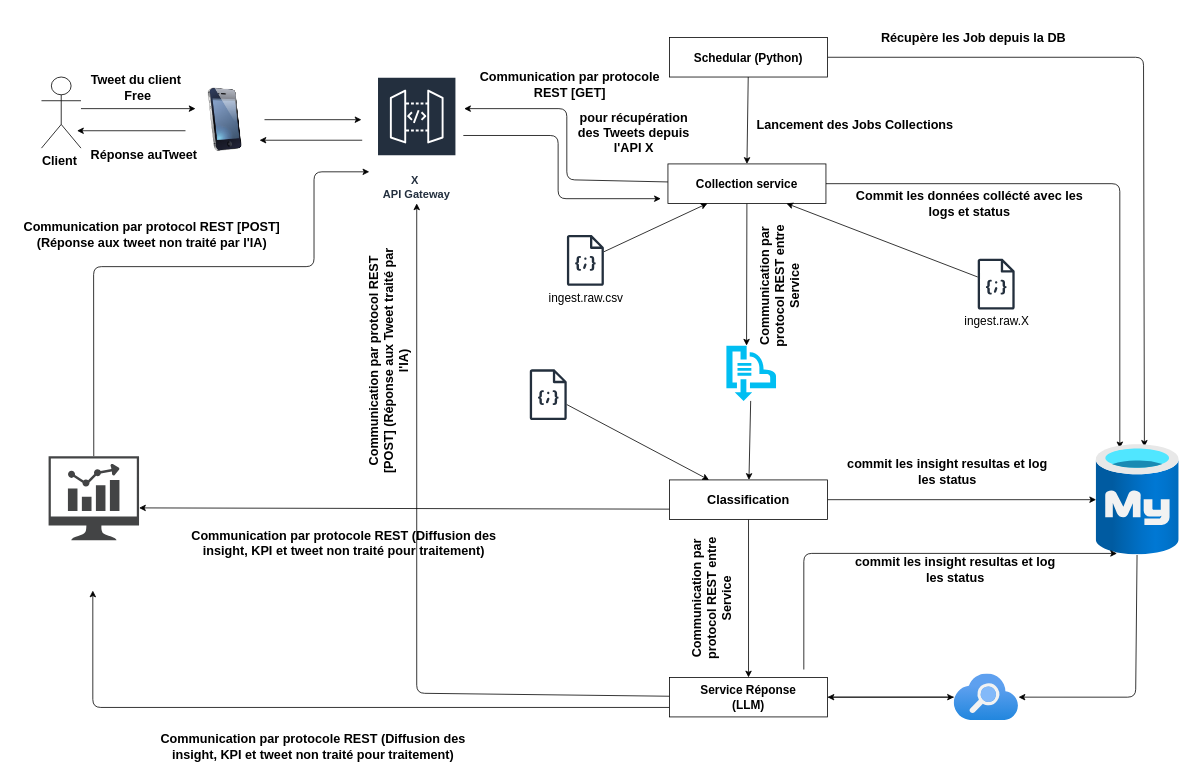
This 1192x784 diagram has some shape labels left out. The shapes that lost their labels are listed below. From the top down, each one's centre as x and y in pixels, then its label:
At (751,373): "Gestion de trafic via un bus/fil d'attente".
At (547,394): "Traitement et nettoyage de données".
At (93,498): "Dashboard (Agent/Manager/Direction)".
At (986,696): "RAG".
